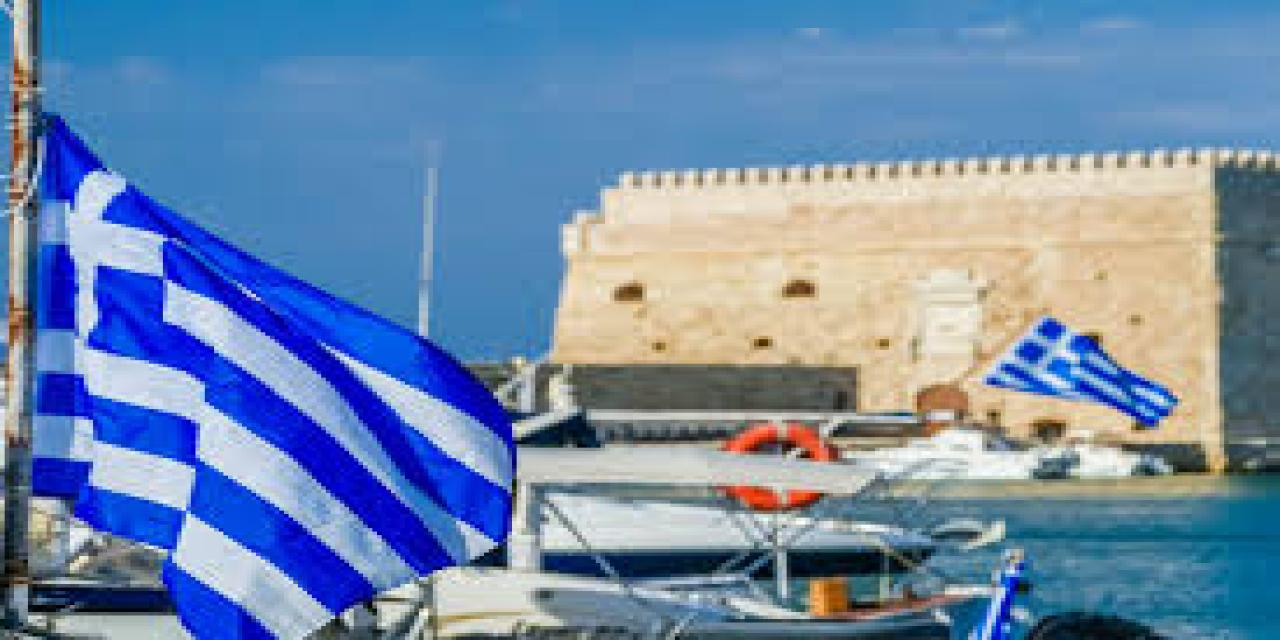Kules: (550, 150, 1280, 452)
